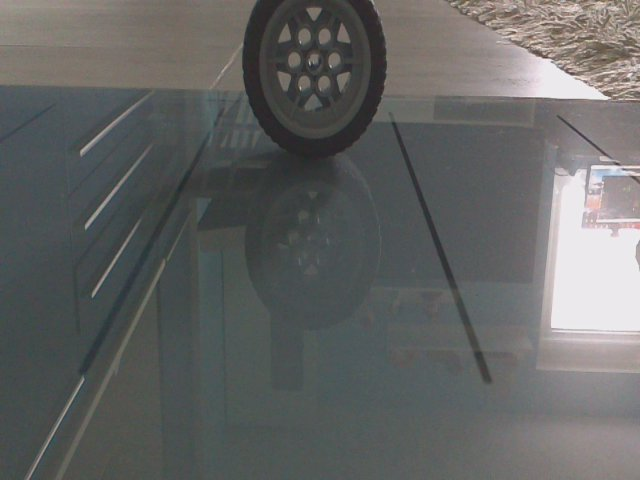Rad: (238, 3, 390, 162)
